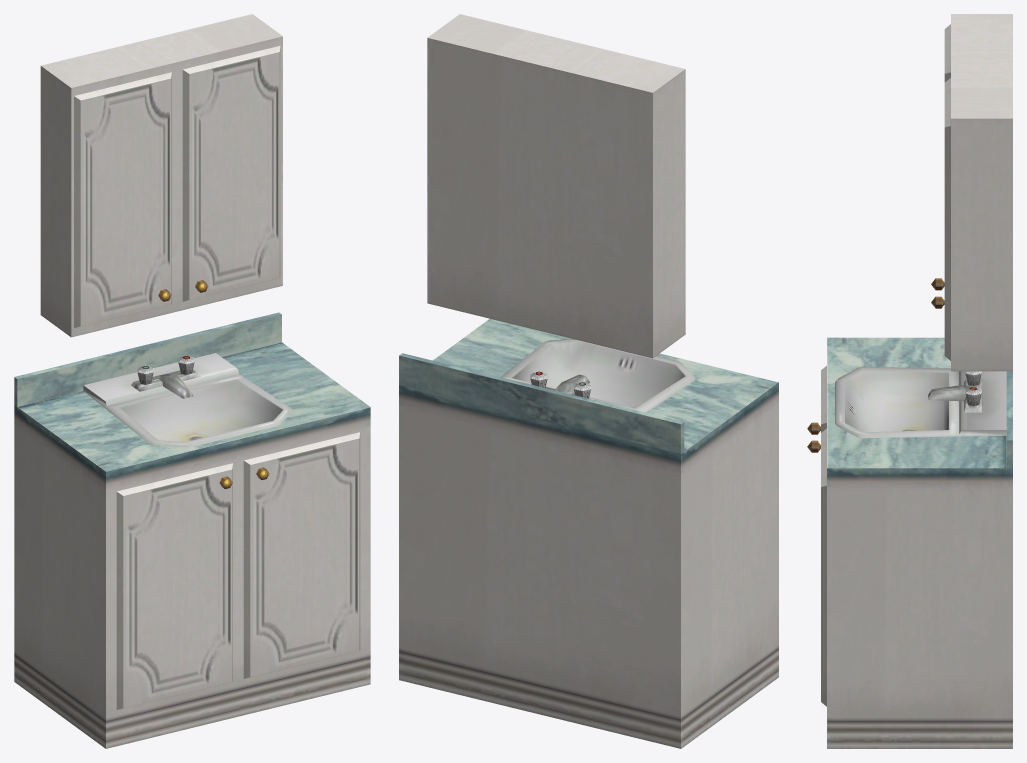
The model's file is sink_vanity1.fbx.
The picture shows the model from 3 angles, left to right: view 1: azimuth 30°, elevation 25°; view 2: azimuth 150°, elevation 25°; view 3: azimuth 270°, elevation 25°; orthographic projection. The views are drawn at different scales.
Visible parts, largest first — view 1: mesh_0; view 2: mesh_0; view 3: mesh_0.
Part boxes in pixels (x1,y1,x2,y2): mesh_0: [14, 14, 370, 748]; mesh_0: [399, 14, 778, 748]; mesh_0: [807, 14, 1012, 748].
Bounding box in the file's own units: 100 × 220 × 66.46.
Materials: 1 (1 with a texture image).
